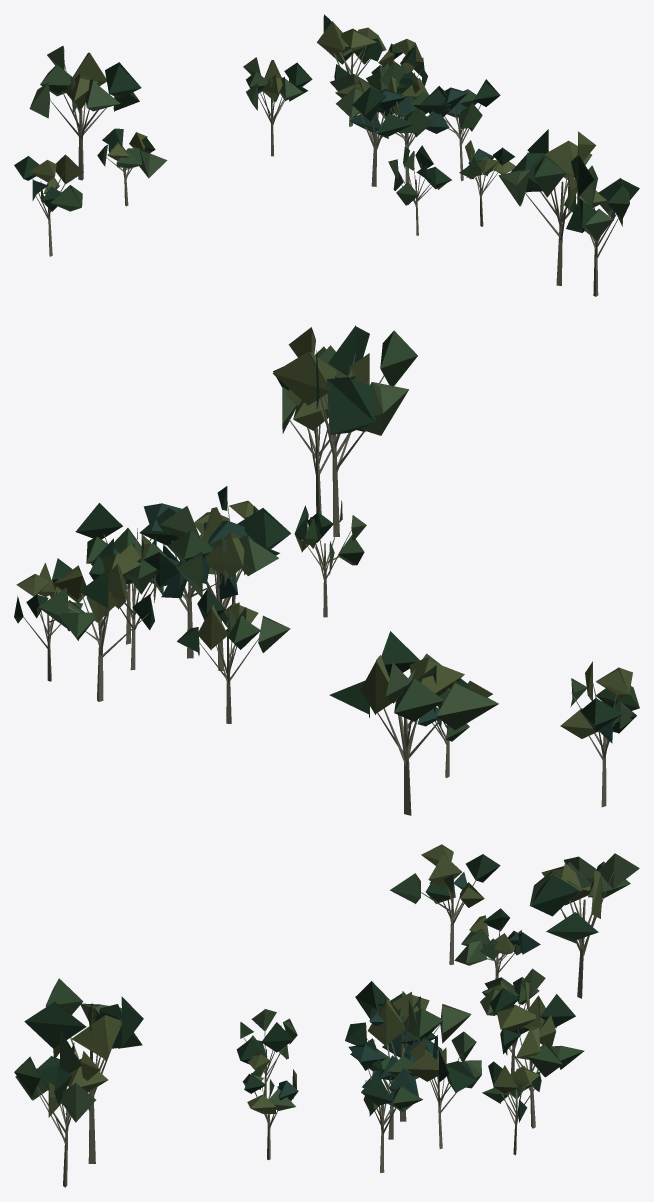
The model's file is forest_20_20.dae.
The picture shows the model from 3 angles, top to bottom: view 1: azimuth 30°, elevation 25°; view 2: azimuth 150°, elevation 25°; view 3: azimuth 270°, elevation 25°; orthographic projection. The views are drawn at different scales.
Parts seen in each view (by area): view 1: Node; view 2: Node; view 3: Node.
Boxes of the visible parts, bbox=[...] form: Node: bbox=[14, 14, 639, 296]; Node: bbox=[14, 325, 639, 815]; Node: bbox=[14, 844, 639, 1187].
Size of the model in its own units: 10.65 by 11.48 by 3.67.
